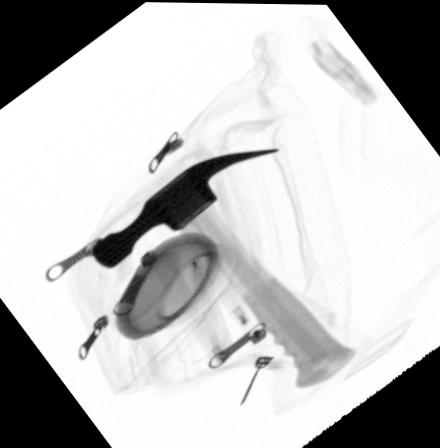Hammer: (89, 146, 359, 388)
